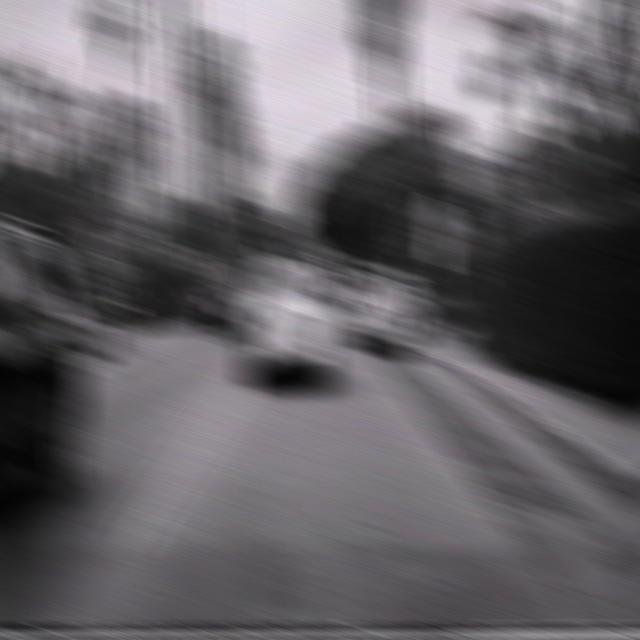stop: (422, 196, 456, 238)
